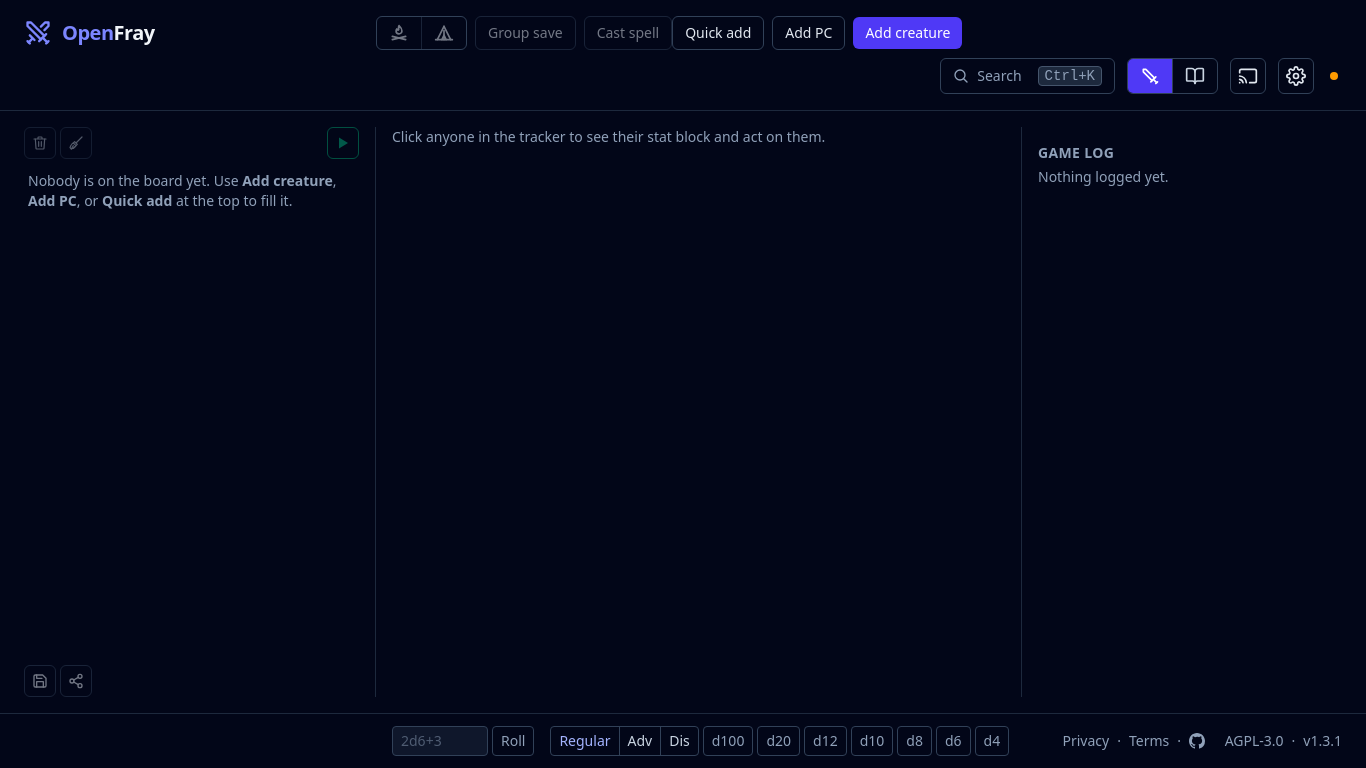
Test: Encounter flow › adds a creature and runs the playback controls
The image size is (1366, 768).
Click the button "Add creature" at [908, 33], box [853,17,962,49]
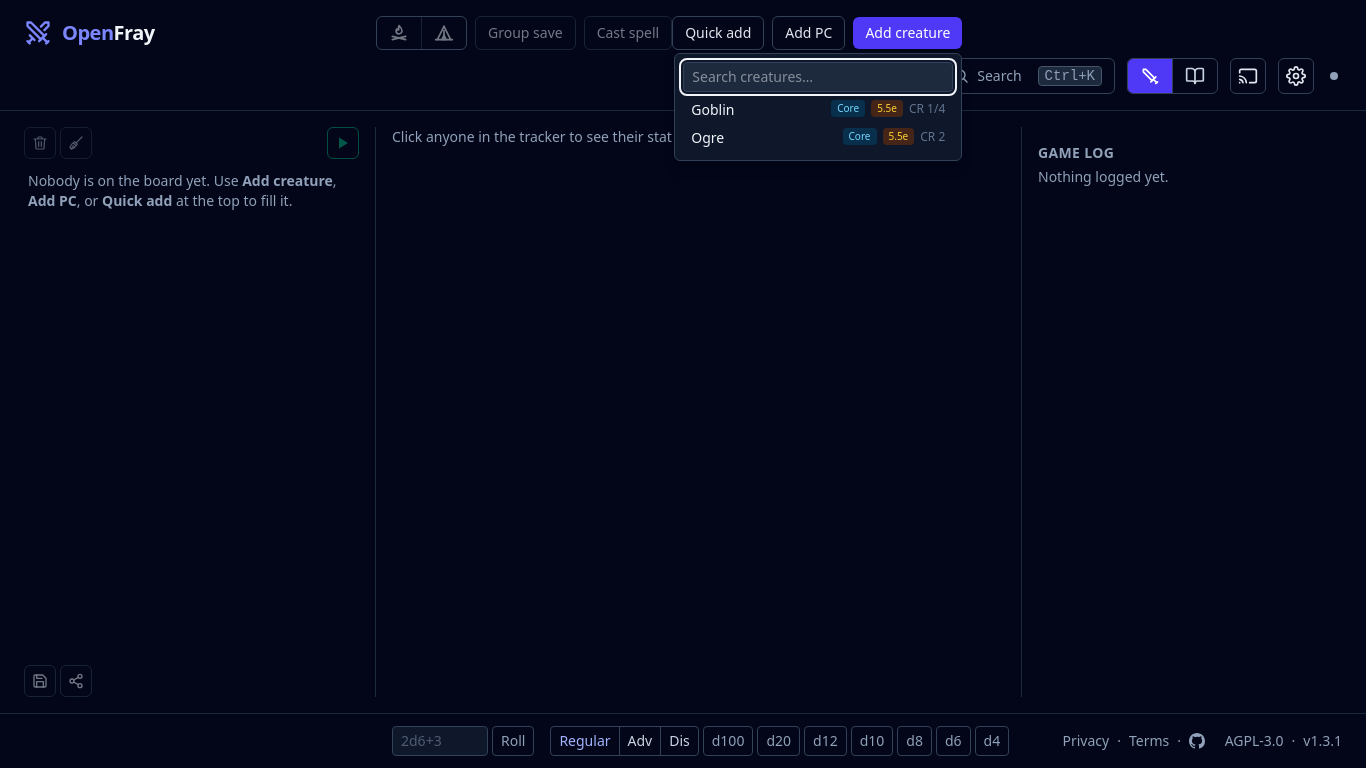
Expected: the text "Goblin" is shown
Click the text "Goblin" at [713, 110], box [691,100,734,120]
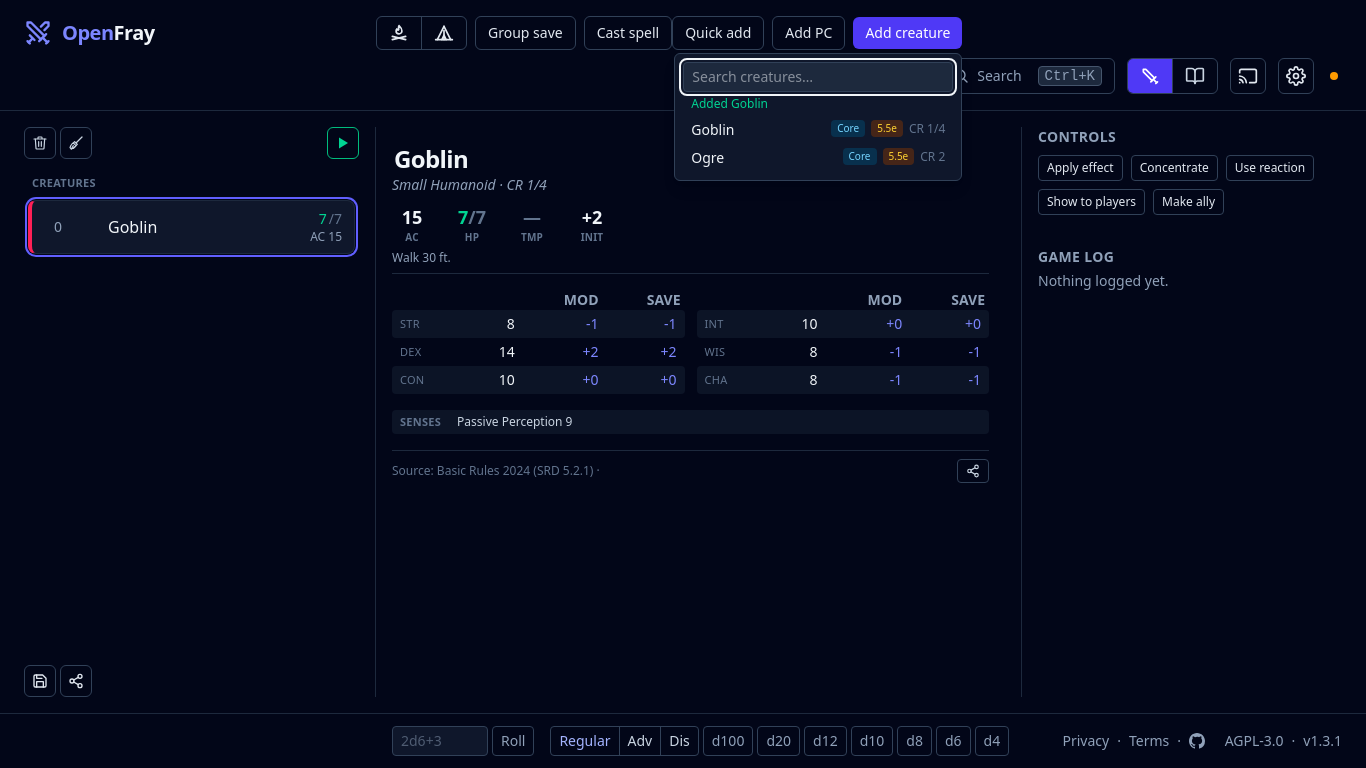
Expected: the text "Goblin" is shown, [691,120,734,140]
Expected: the button named "Begin" is enabled
Click the button named "Begin" at [343, 143], box [327,127,359,159]
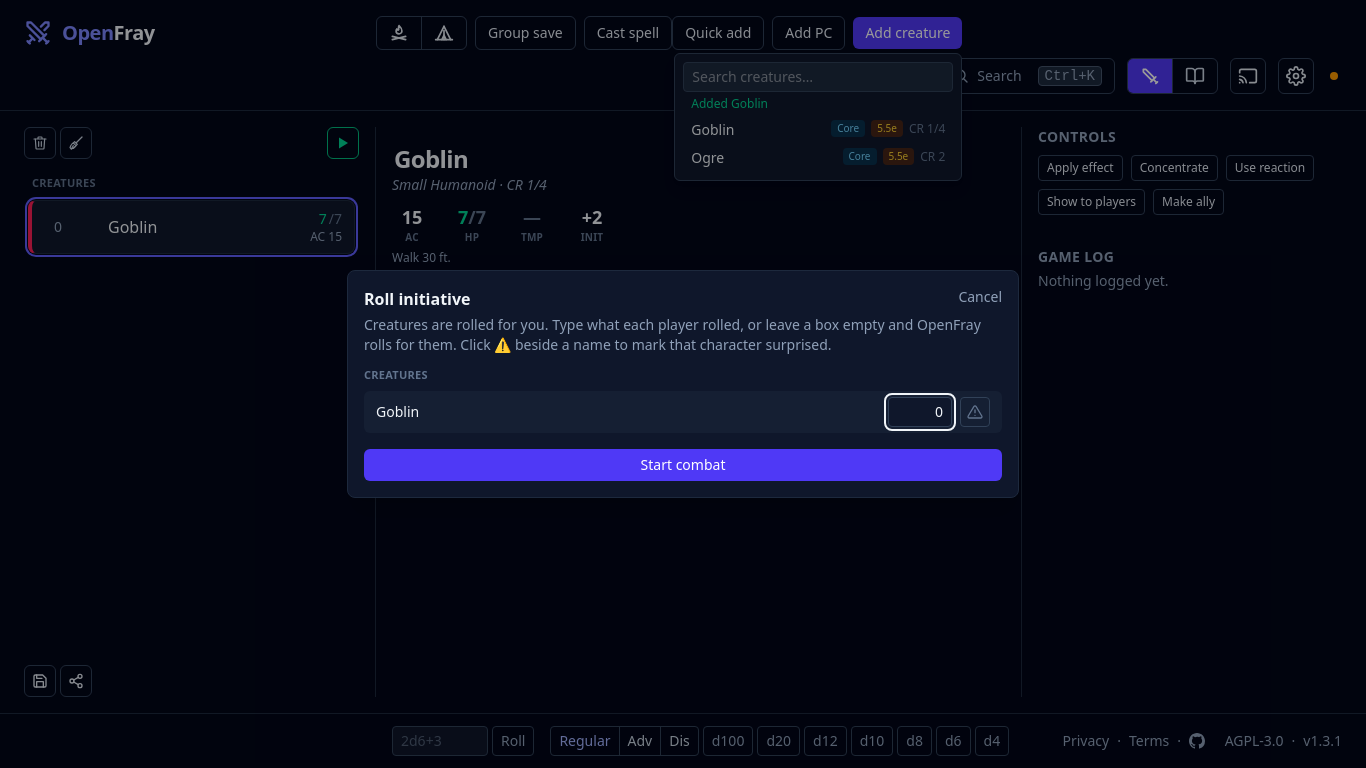
Click the button "Start combat" at [683, 465], box [364,449,1002,481]
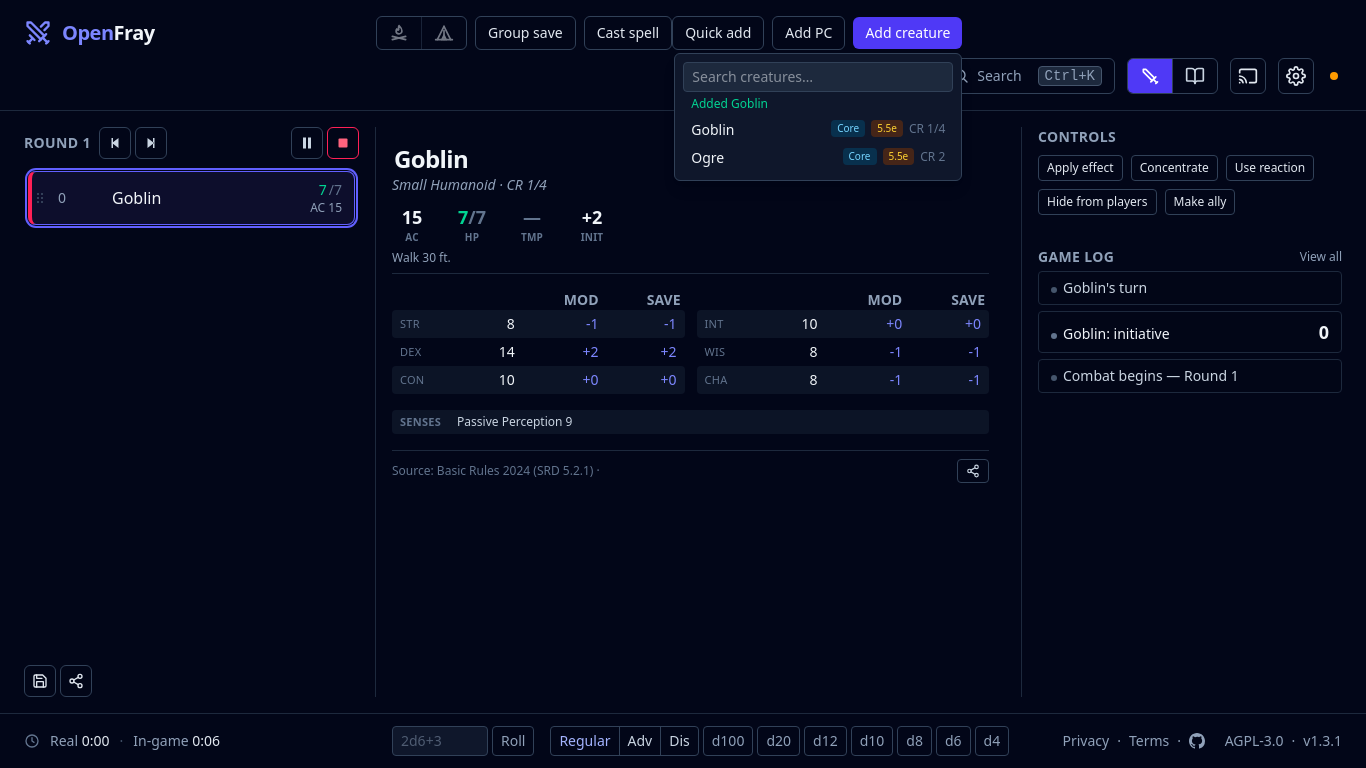
Expected: the heading "Round 1" is shown, [24,133,91,153]
Expected: the button named "Next turn" is shown, [135,127,167,159]
Click the button named "Pause" at [307, 143], box [291,127,323,159]
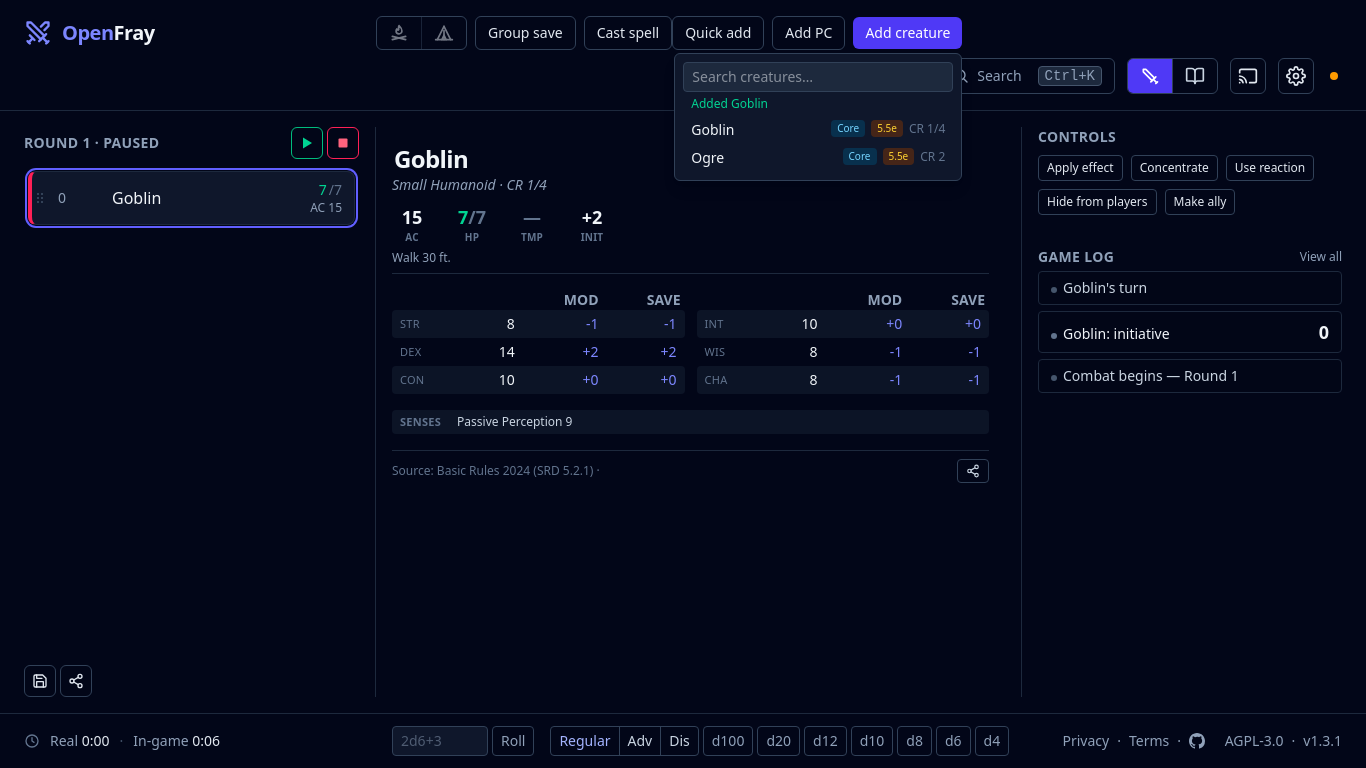
Expected: the button named "Resume" is shown, [291,127,323,159]
Click the button named "Stop" at [343, 143], box [327,127,359,159]
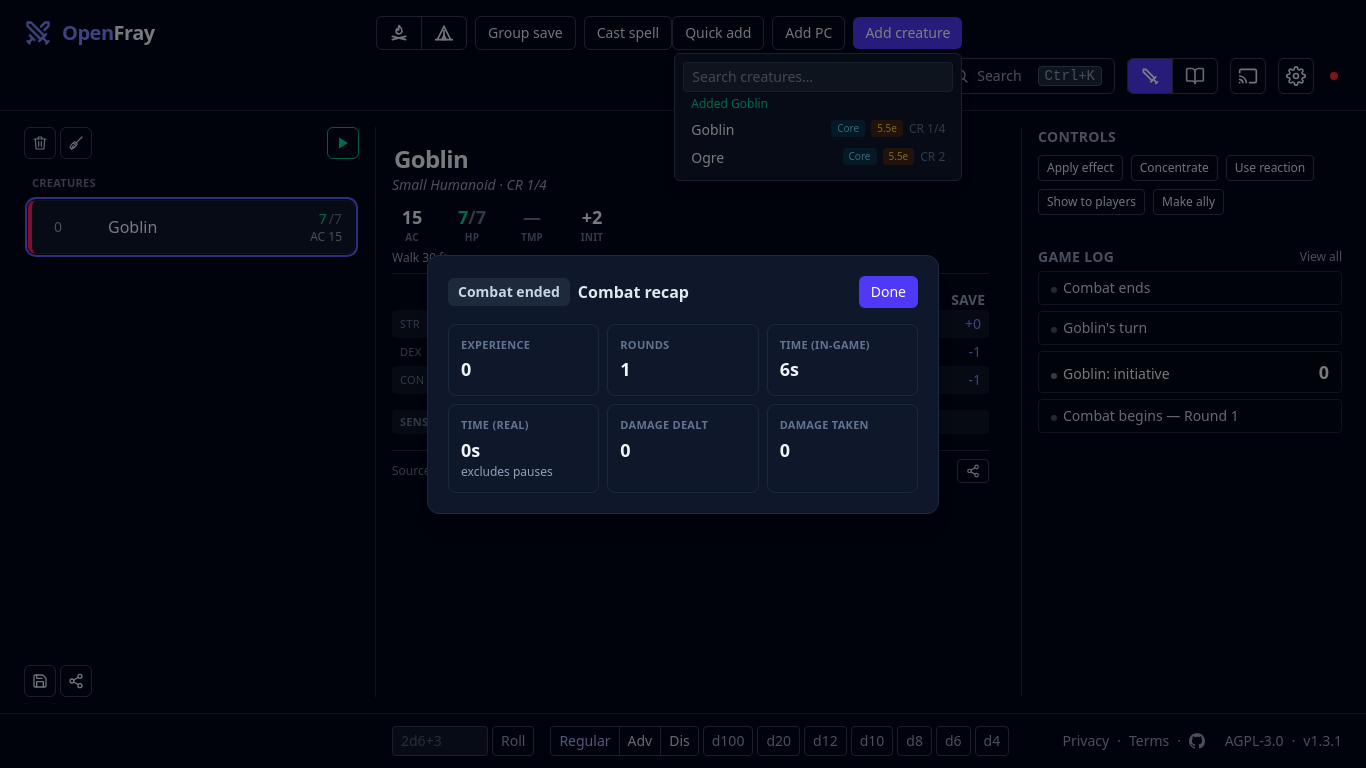
Expected: the button named "Begin" is shown, [327,127,359,159]
